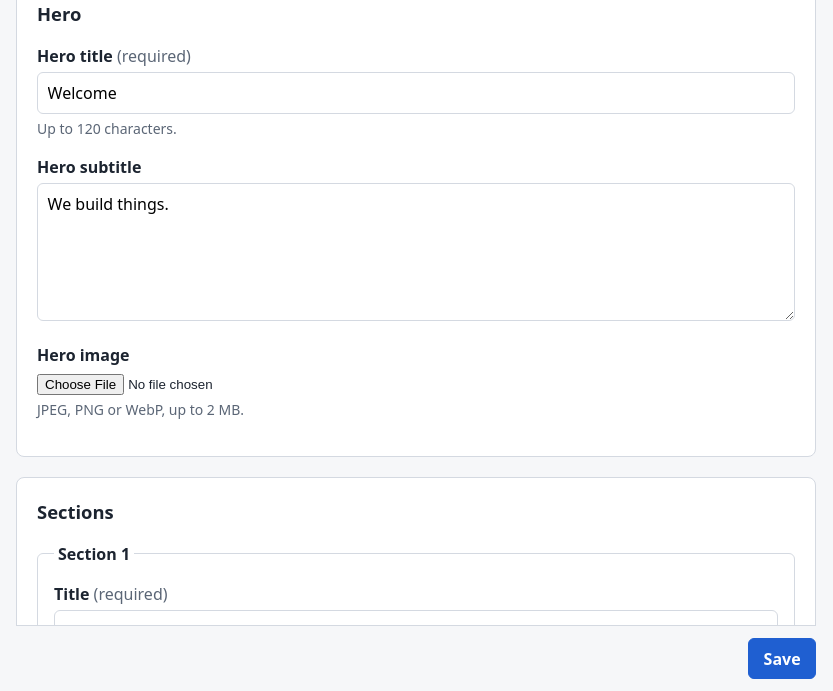
Test: Save › valid content → PUT /api/home with the edited fields and a success message
Replace the text in the field labelled "Hero title (required)" with "New title" at (416, 93), box [37,72,795,114]
(page scrolled)
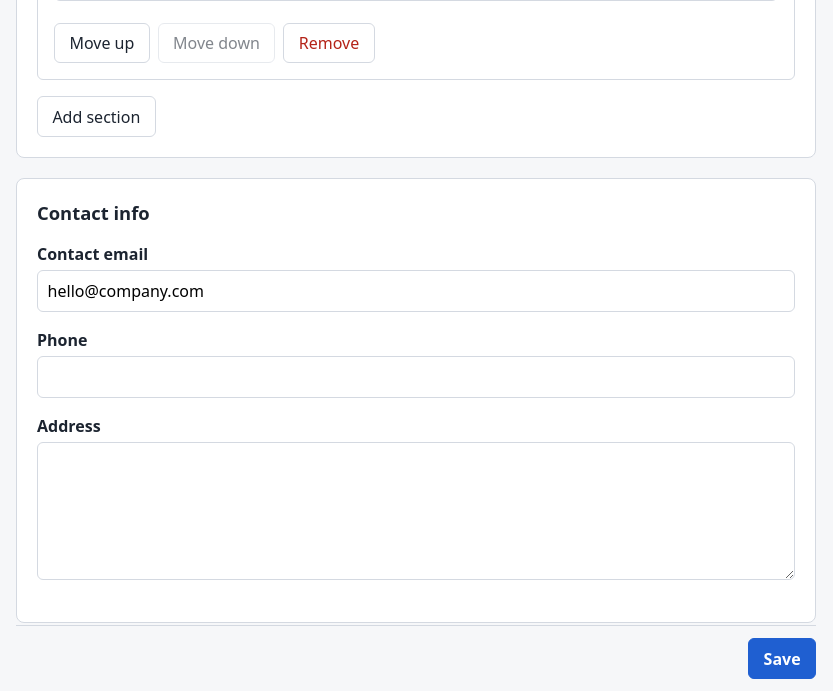
Clear the field labelled "Contact email" at (416, 291), box [37,270,795,312]
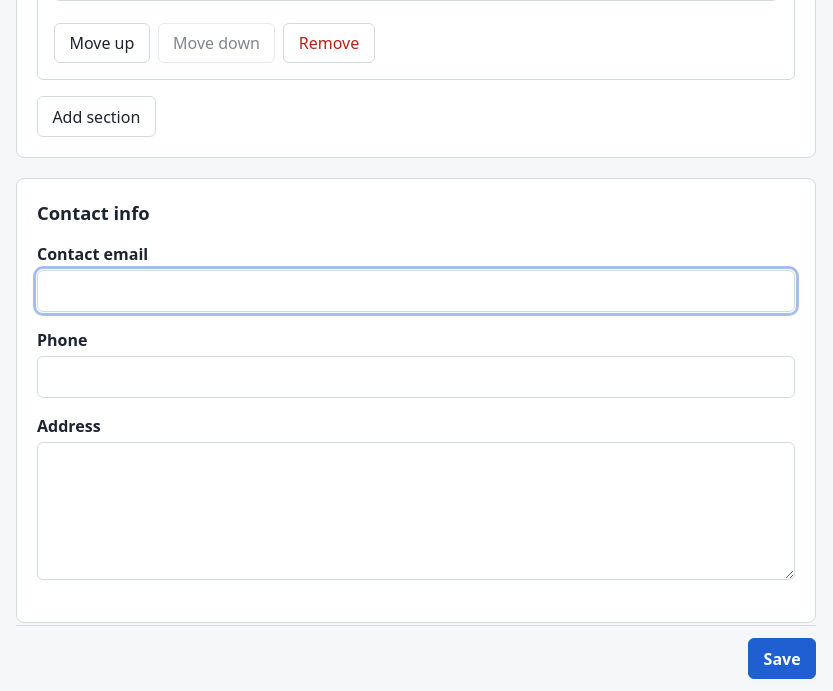
Type "+44 20 0000 0000" into the field labelled "Phone" at (416, 377), box [37,356,795,398]
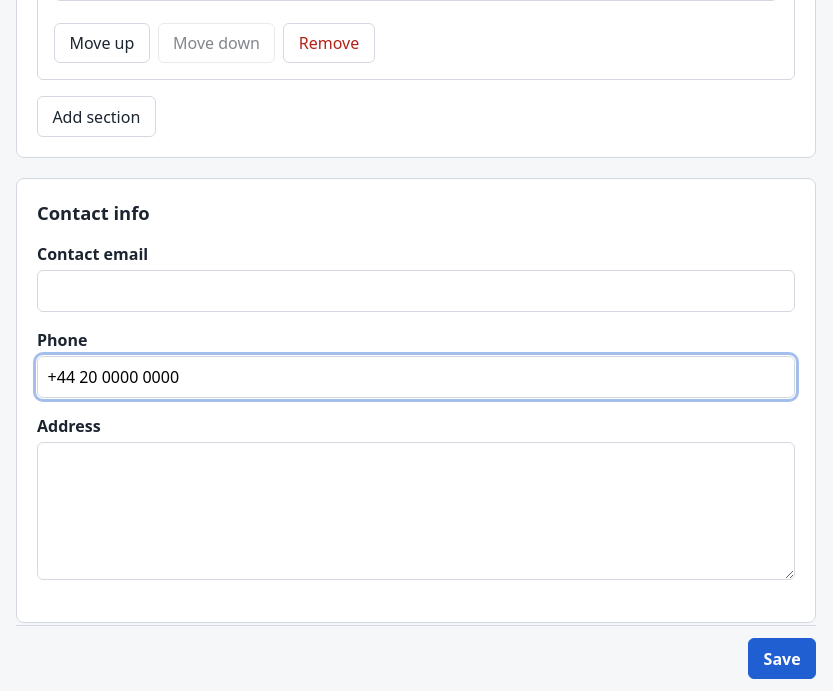
Click the button "Save" at (782, 659), box [748,639,816,679]
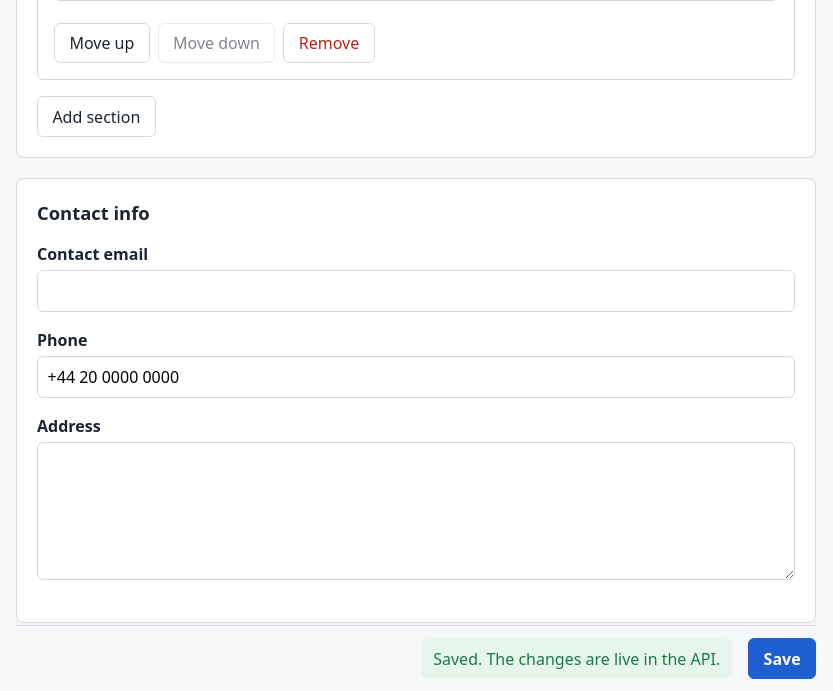
Now the message shows "Saved.", box [433,648,720,670]
